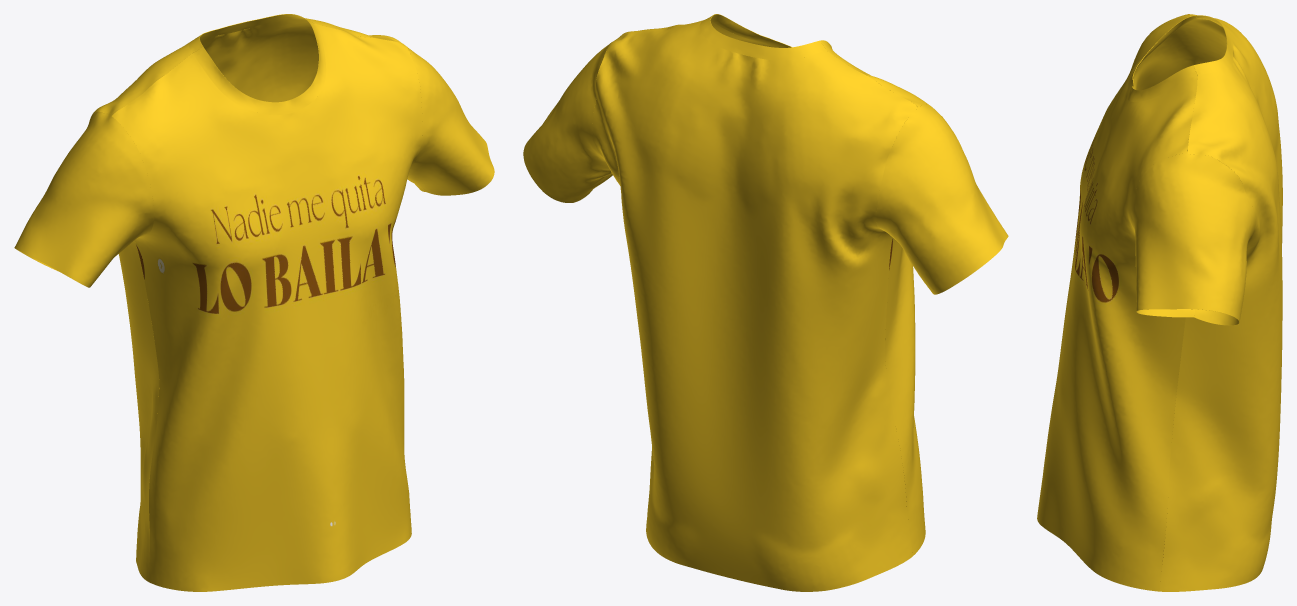
The model's file is camiseta.fbx.
3 renders of one model, left to right at view 1: azimuth 30°, elevation 25°; view 2: azimuth 150°, elevation 25°; view 3: azimuth 270°, elevation 25°, orthographic. The views are drawn at different scales.
Visible parts, largest first — view 1: Body_Front_Node; view 2: Body_Front_Node; view 3: Body_Front_Node.
Boxes of the visible parts, x1,y1,x2,y2 form: Body_Front_Node: (14,14,494,591); Body_Front_Node: (523,14,1008,591); Body_Front_Node: (1037,14,1282,591).
Bounding box in the file's own units: 65.3 × 70.16 × 30.91.
